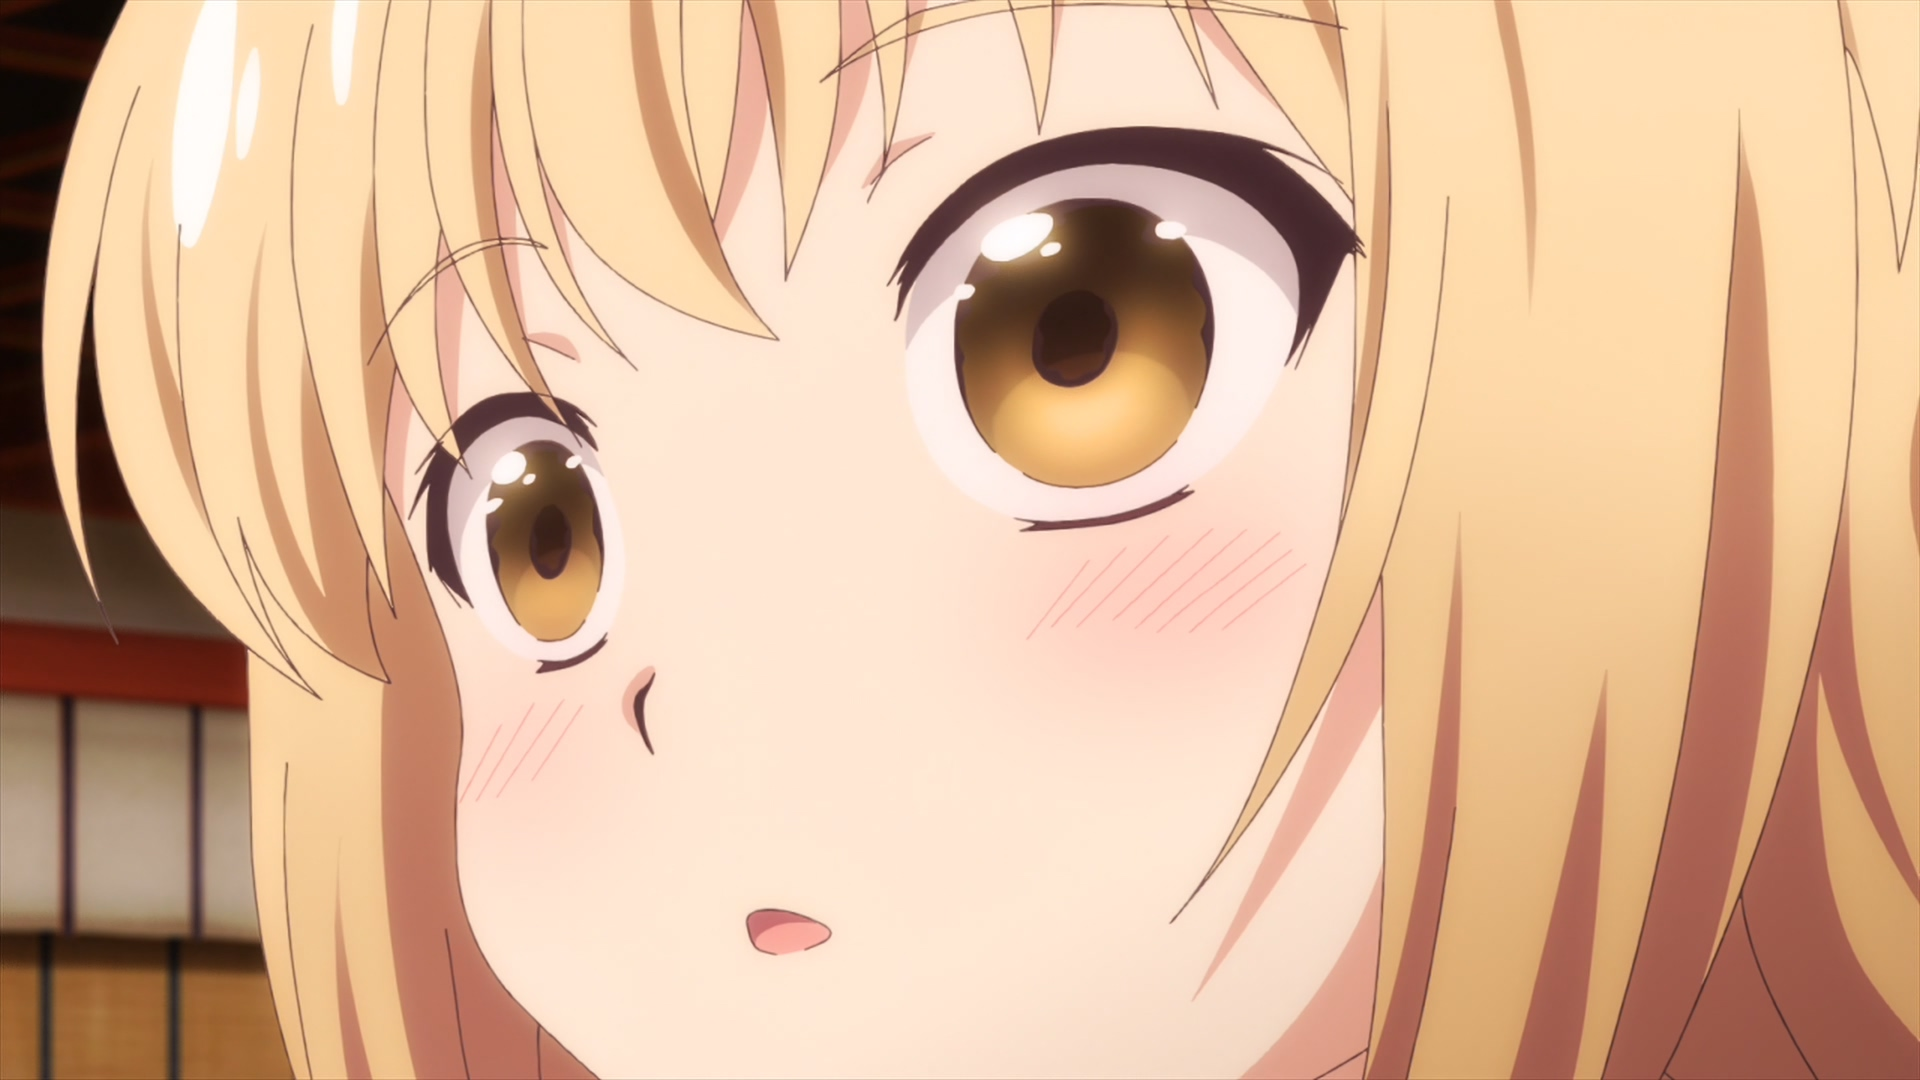柚: (40, 1, 1920, 1080)
